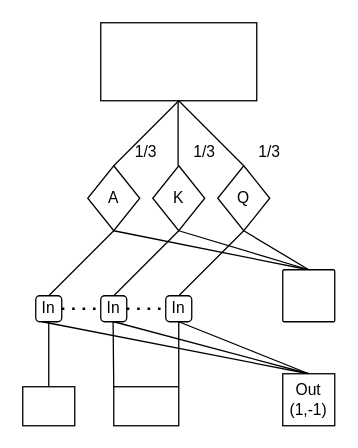
This 358x448 diagram has some shape labels left out. Here are the shapes that lost their labels. From the top down, the centre of each, then its label:
At point 178,61: "Nature".
At point 308,295: "Out (-1,1)".
At point 48,405: "In (2,-2)".
At point 145,405: "In (-2,2)".
